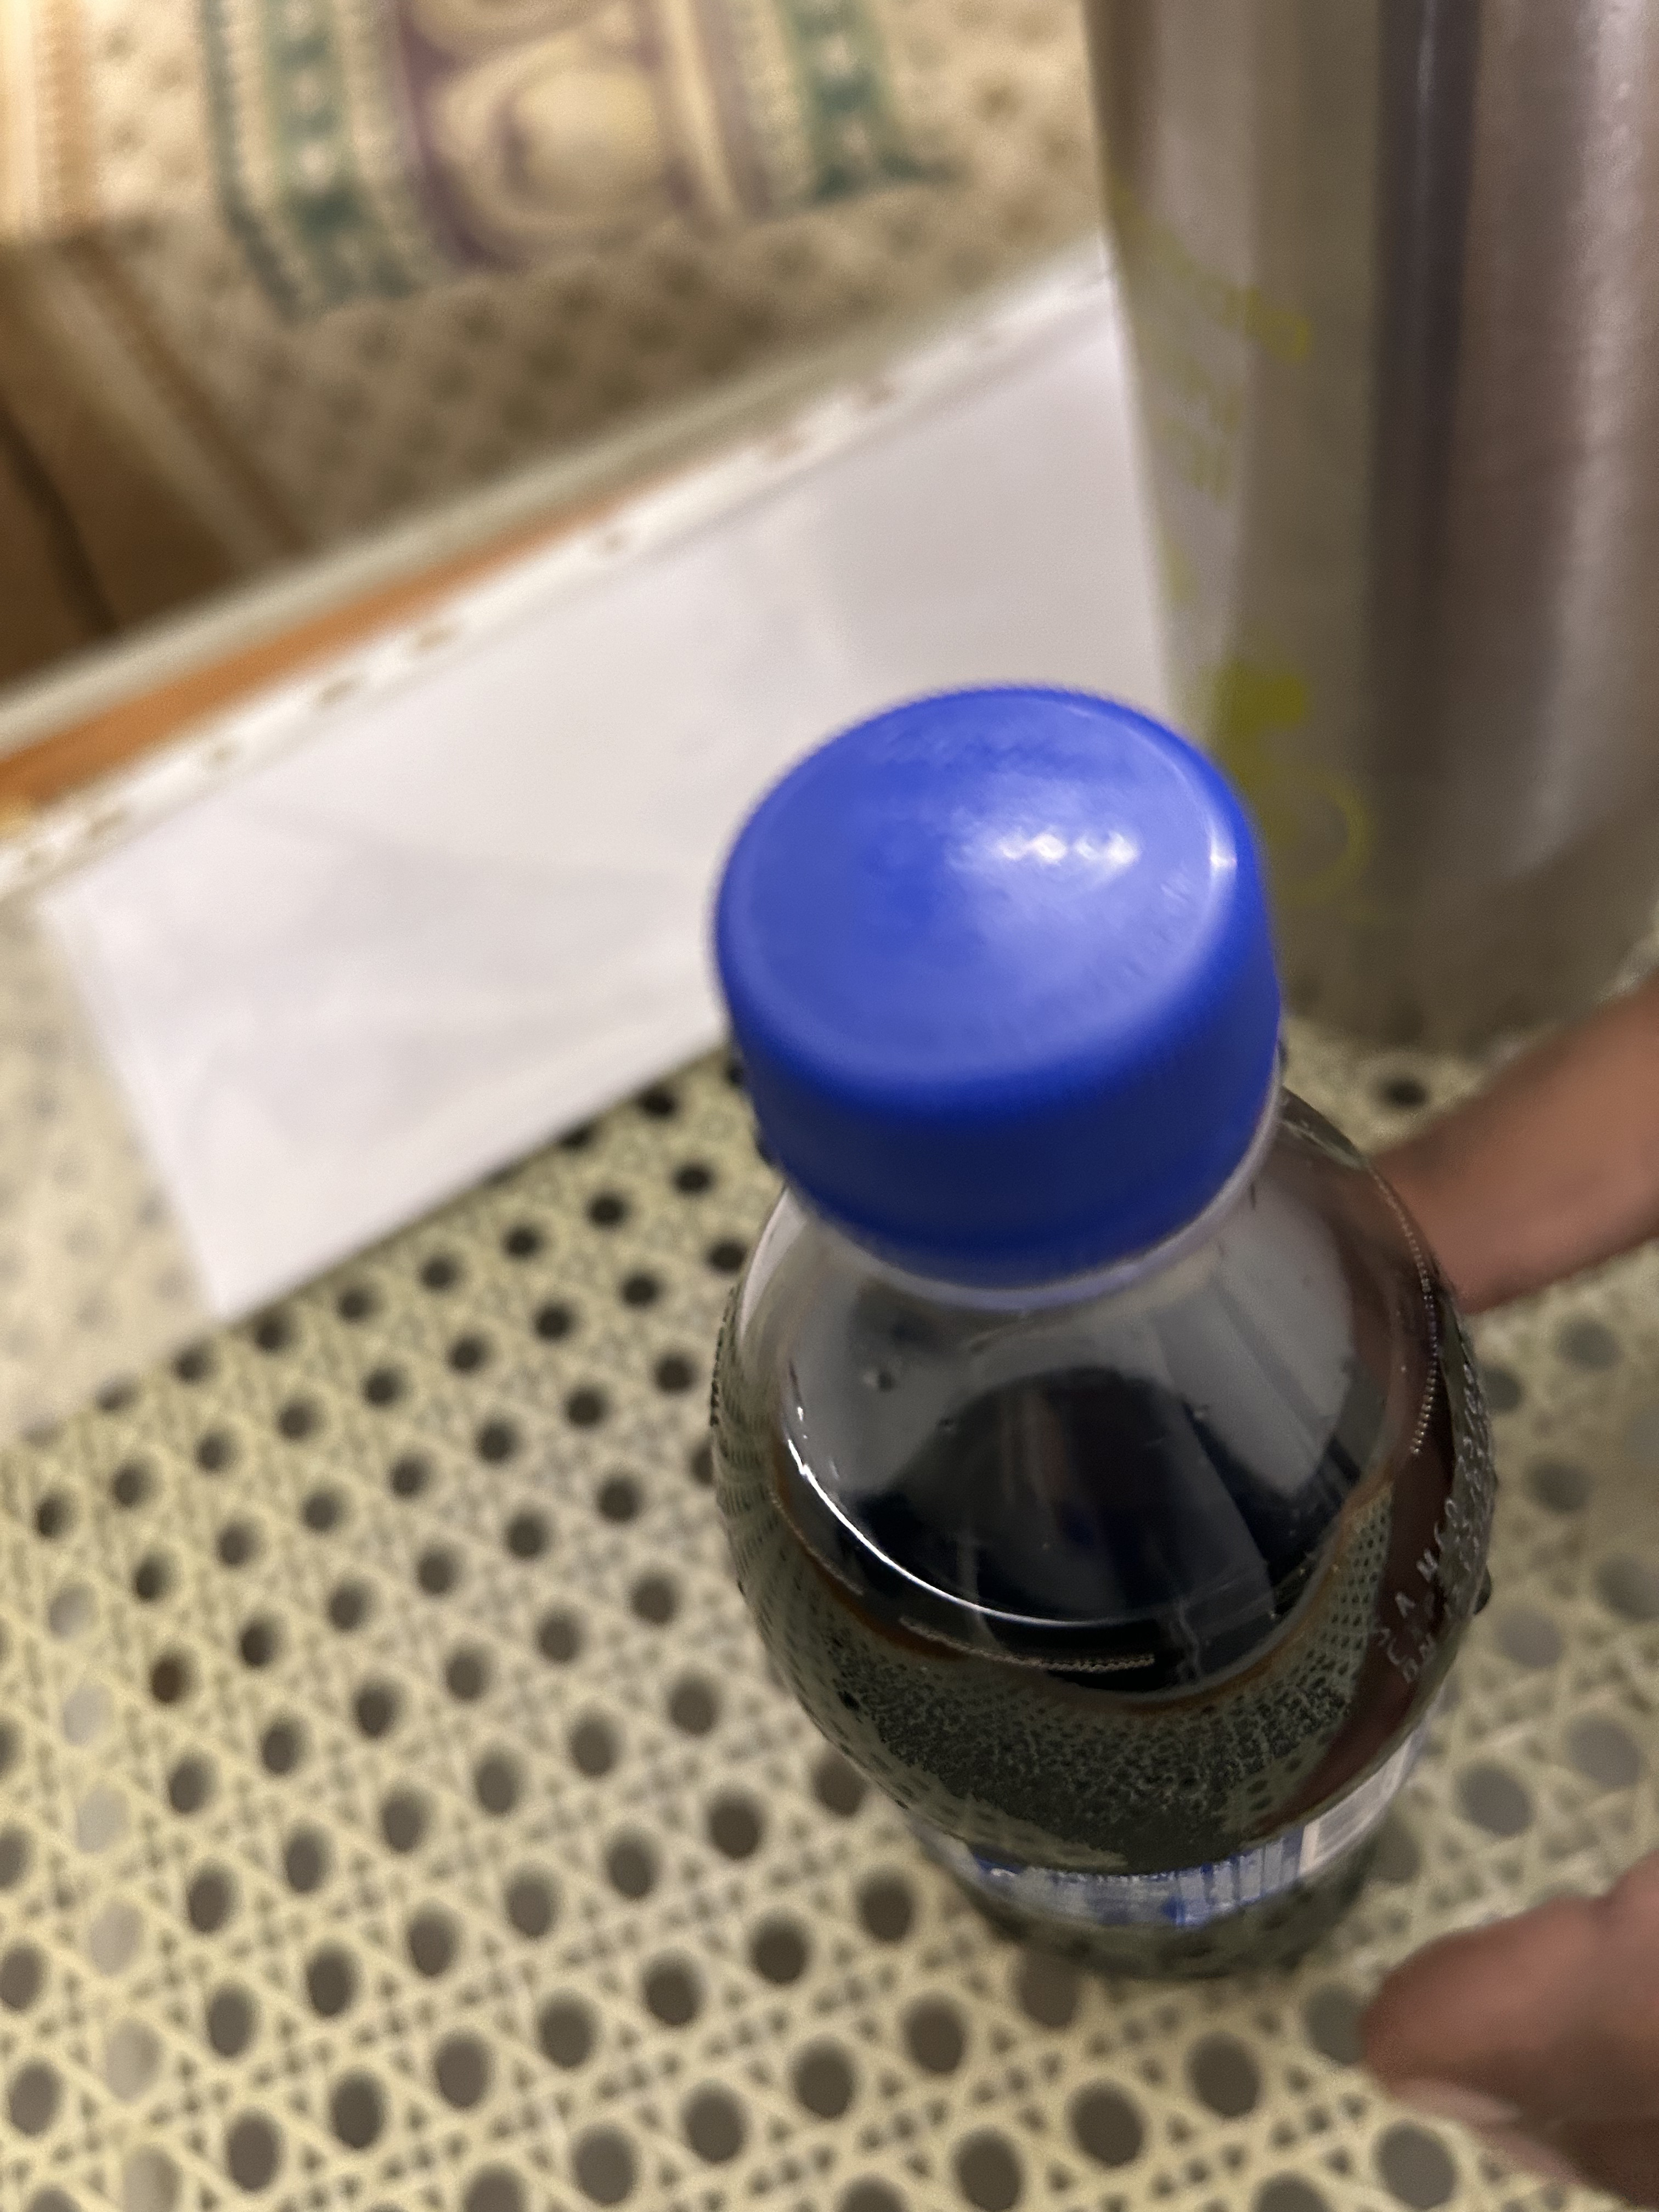sealstable: (685, 641, 1321, 1468), (685, 639, 1321, 1467)
